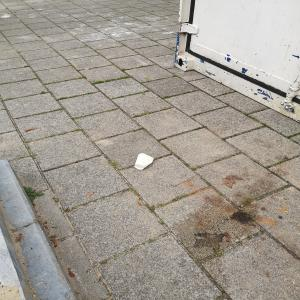Cup: (129, 151, 161, 175)
